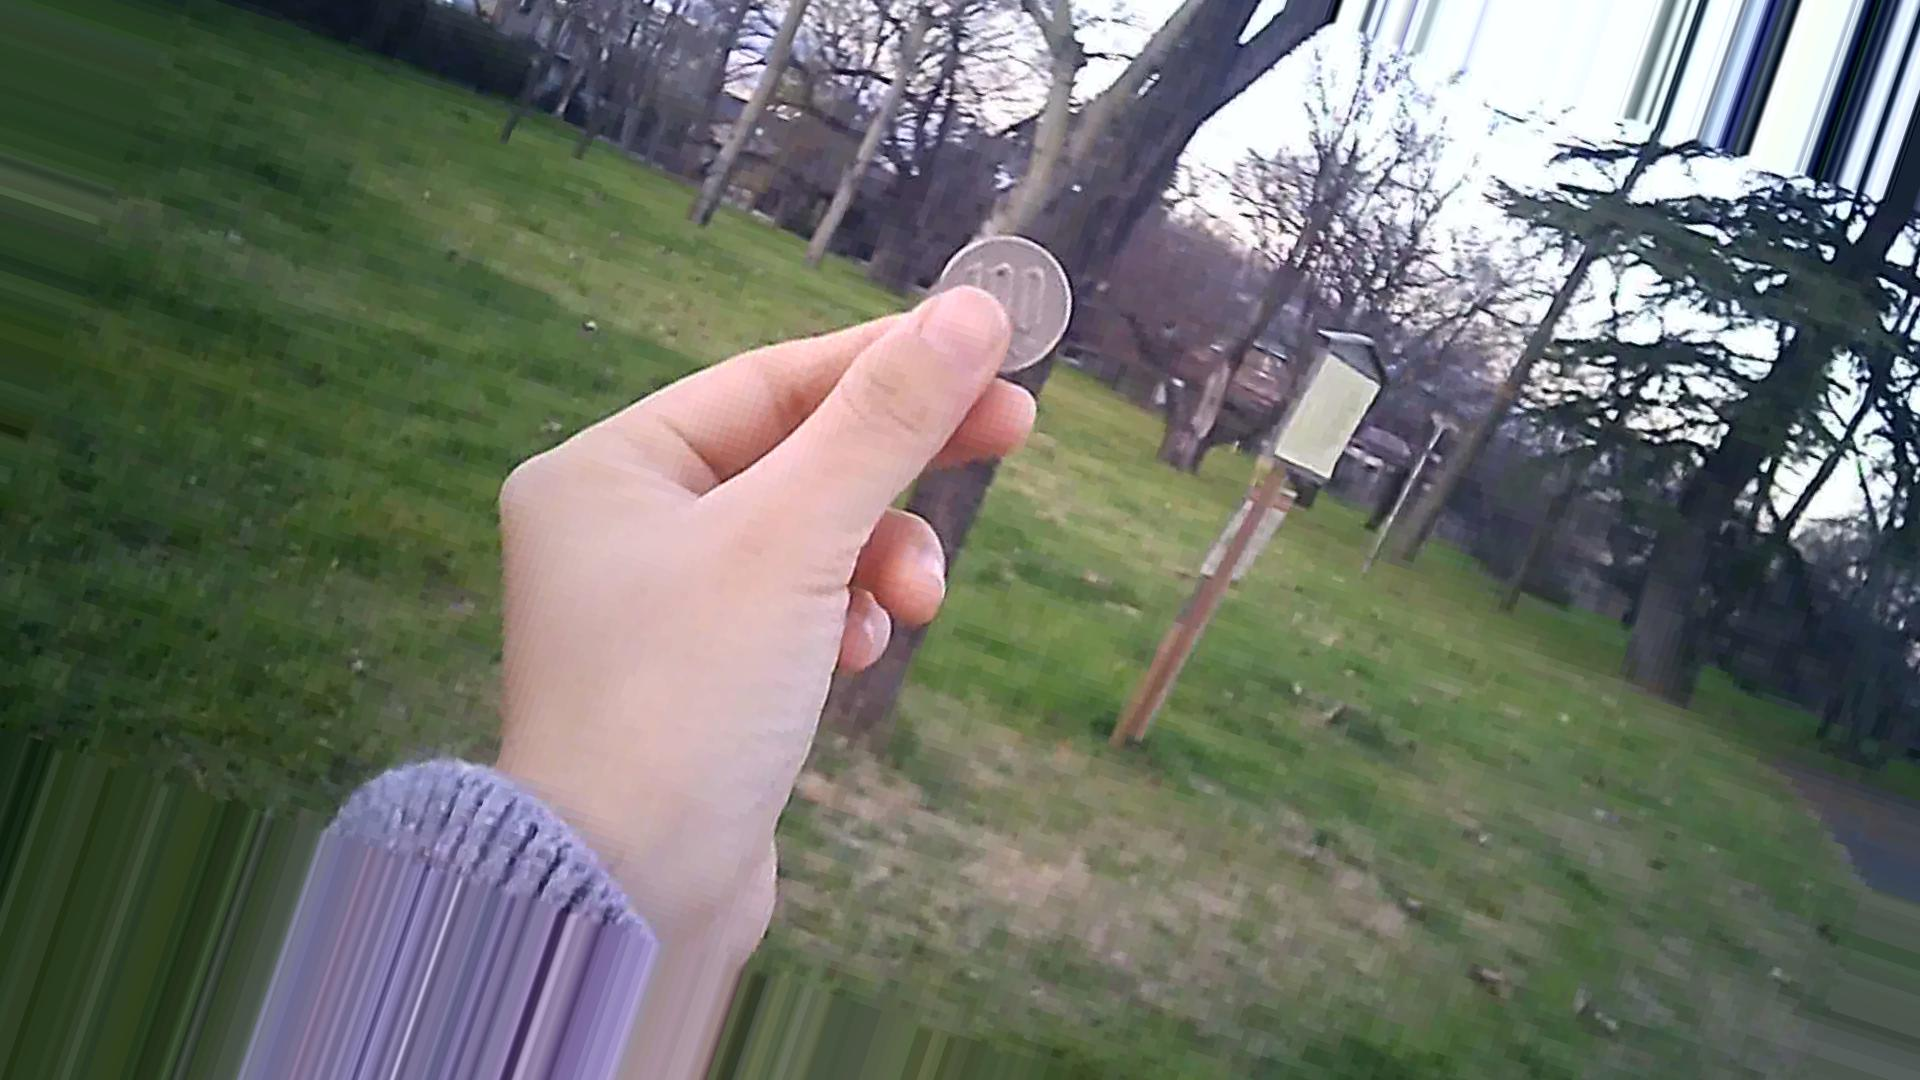100 Yen: (931, 220, 1084, 386)
